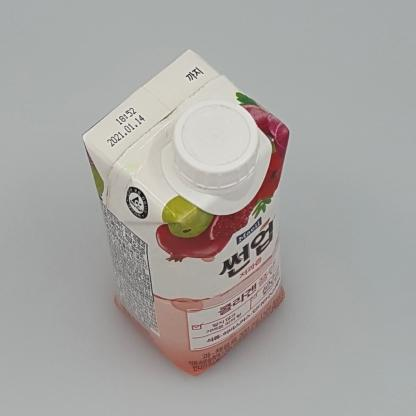--------------330ML: (82, 49, 289, 376)
